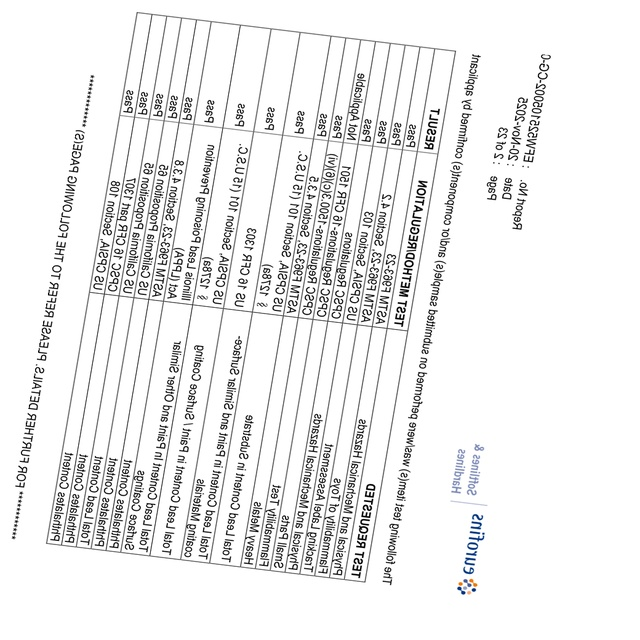eurofins: (453, 506, 497, 603)
